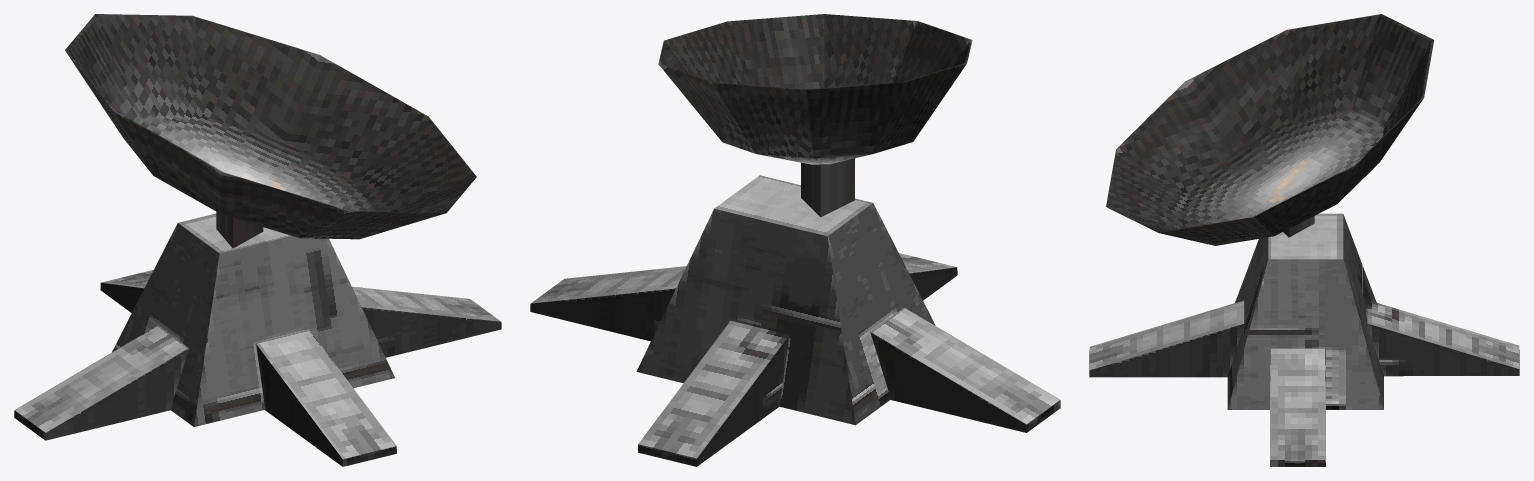
Rendered from commlow2.obj.
3 views of the same model, side by side, from view 1: azimuth 30°, elevation 25°; view 2: azimuth 150°, elevation 25°; view 3: azimuth 270°, elevation 25° (orthographic). The views are drawn at different scales.
Bounding box in the file's own units: 14.15 × 9.63 × 12.95.
7 materials, 7 textured.
